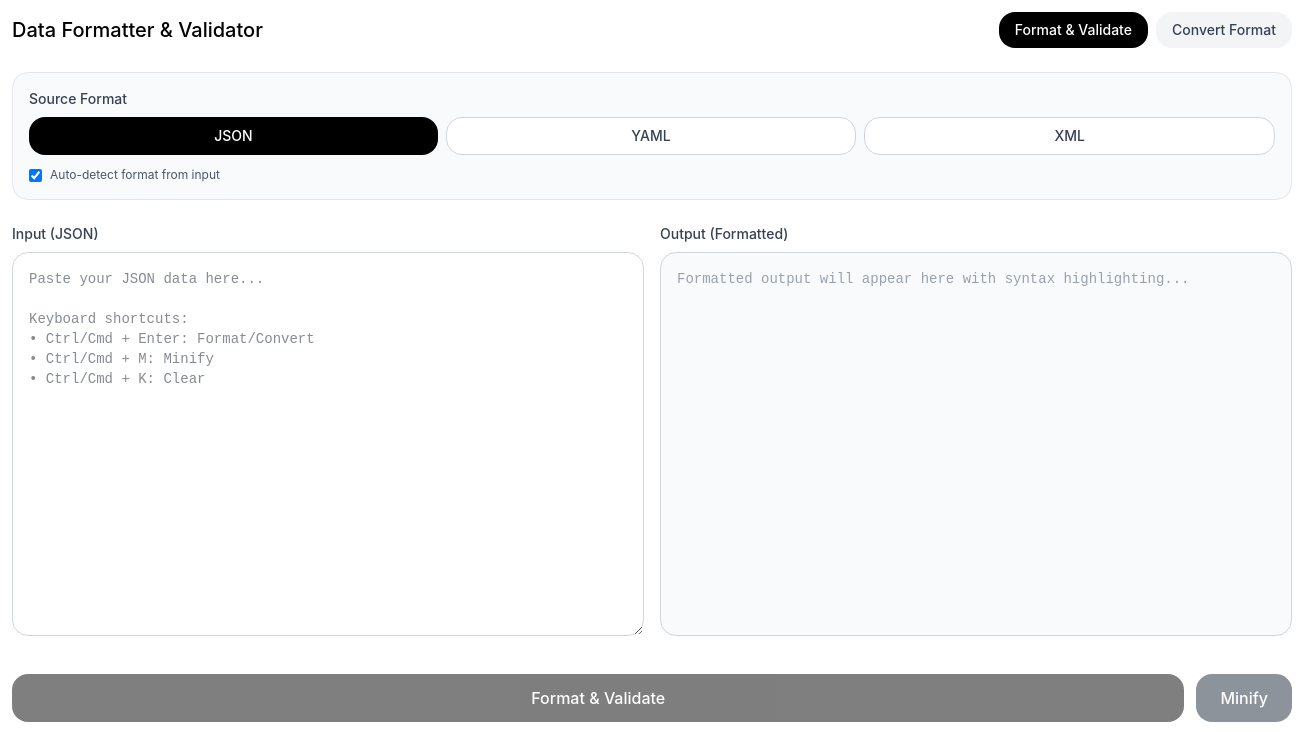
Test: DataFormatterValidator Component › Input Handling › should show character count
Click the text box with placeholder "Paste your JSON data here" at [328, 444], box [12,252,644,636]
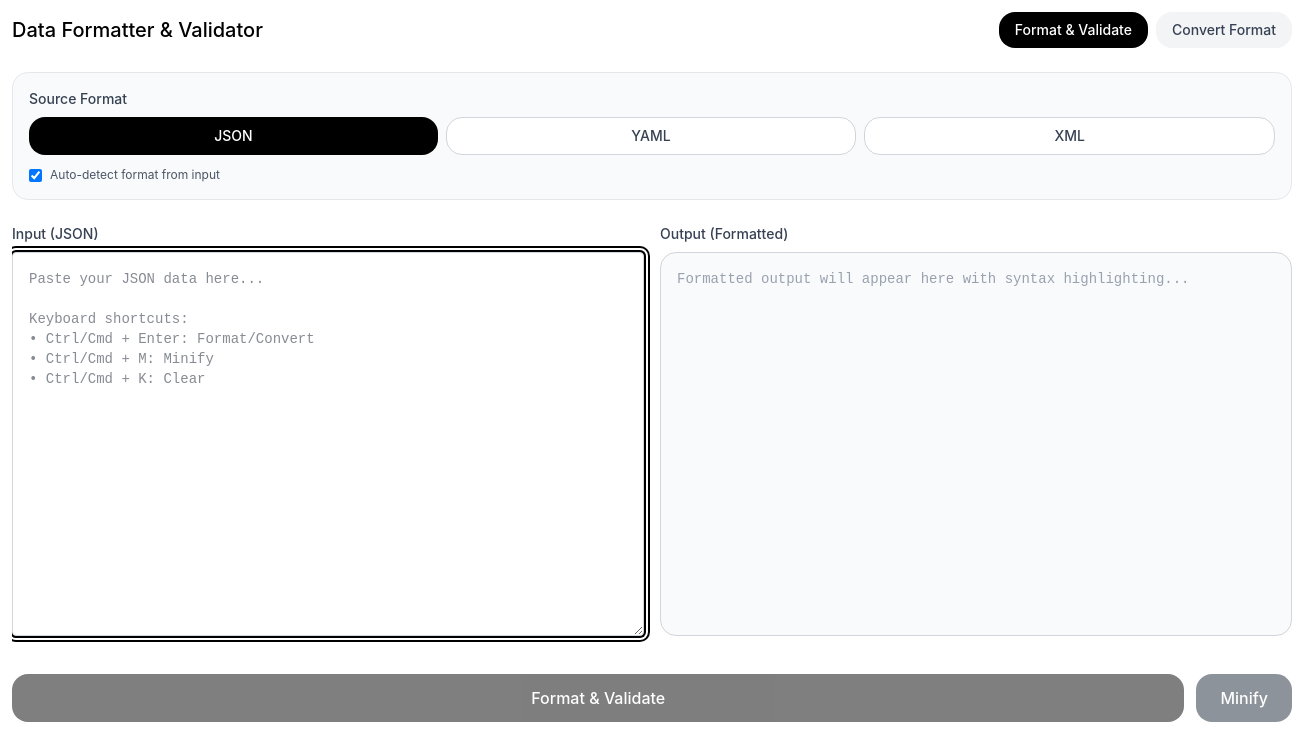
Type keys "test"
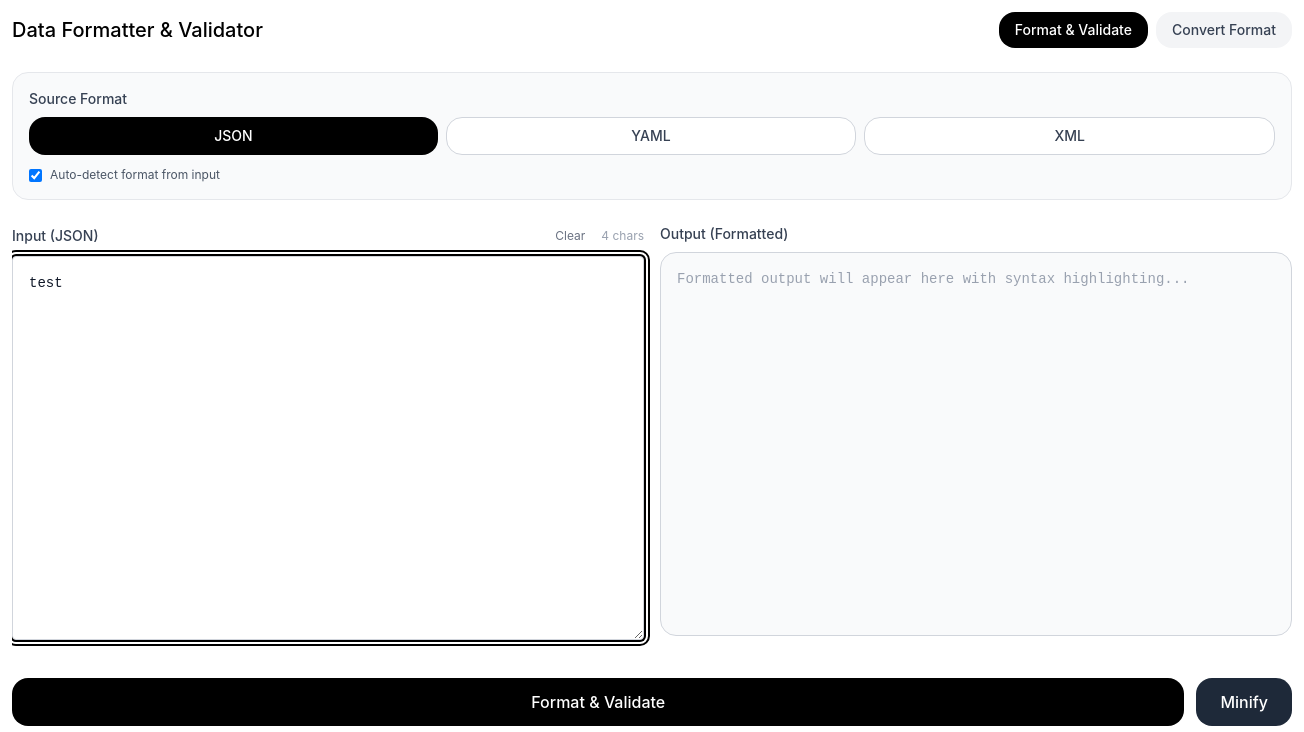
Check: the text "4 chars" is shown, box [601,228,644,244]
